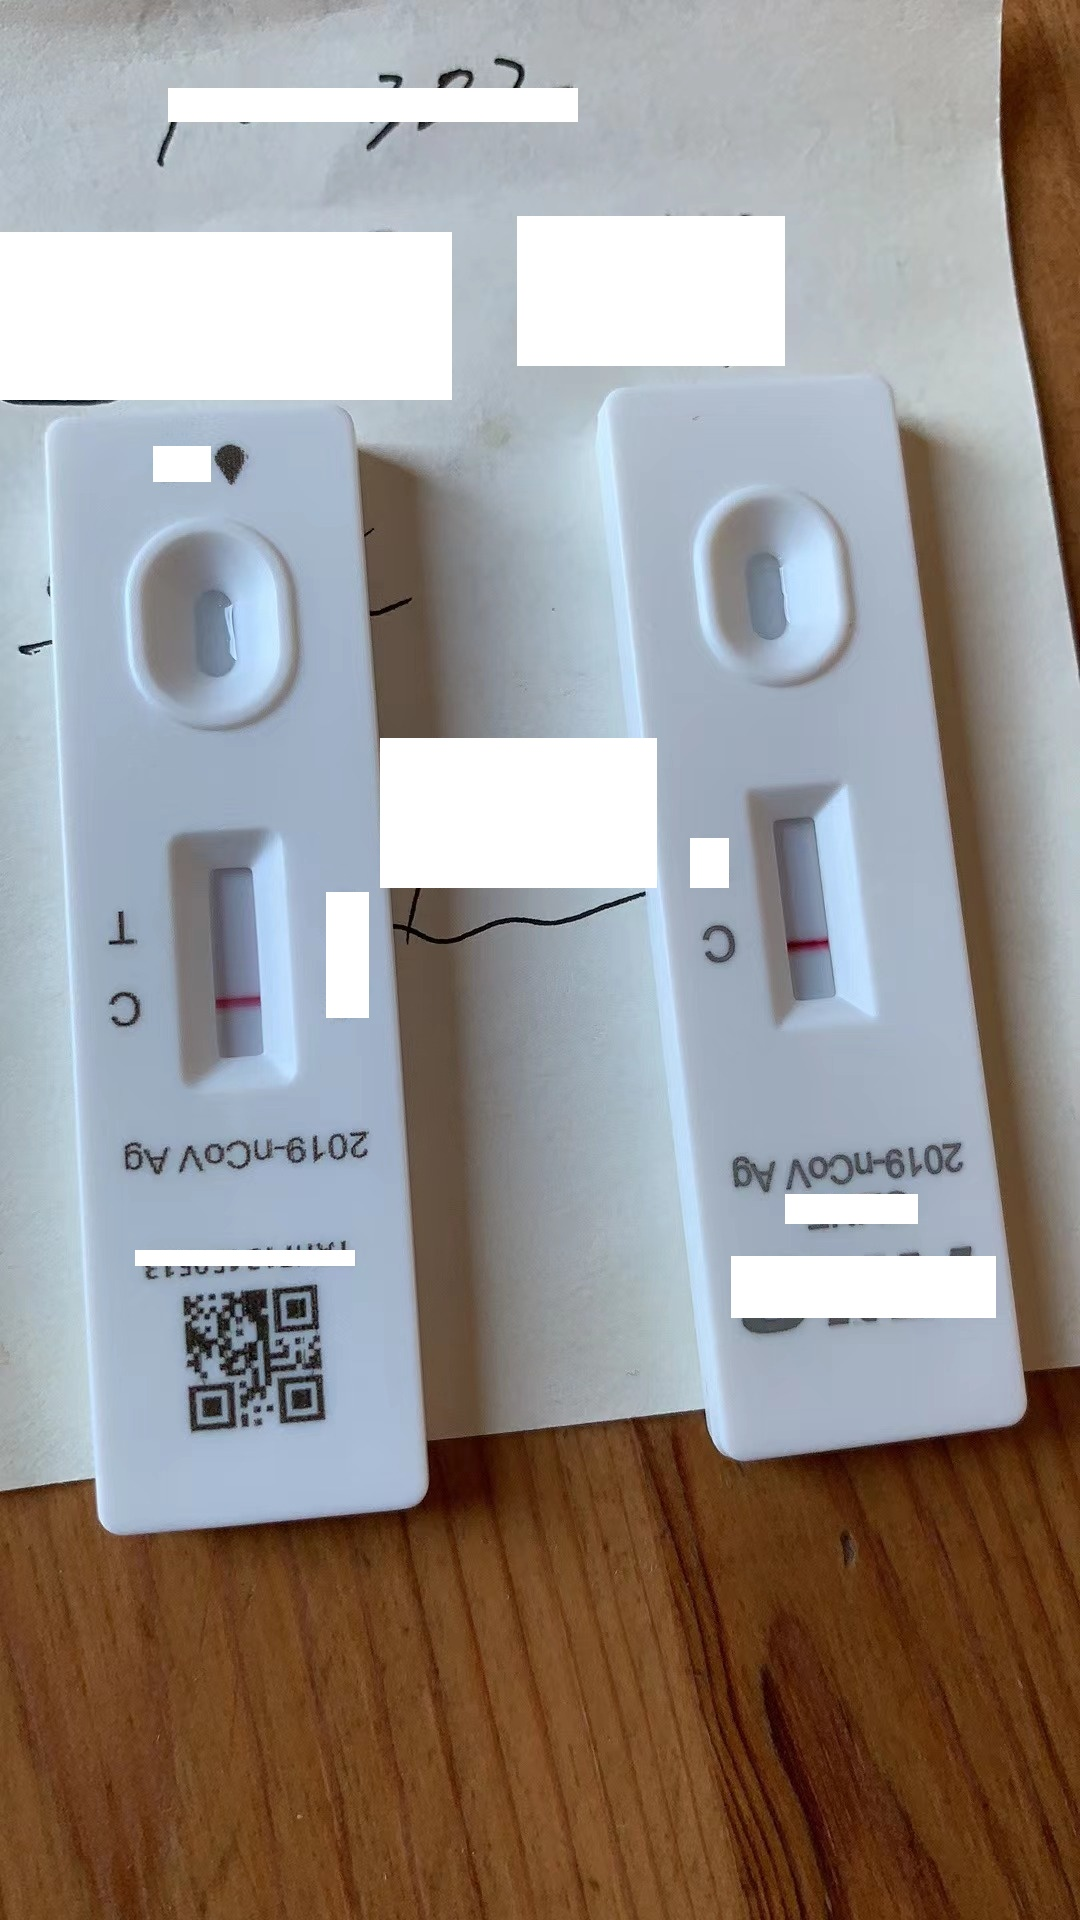negative: (167, 831, 285, 1091), (750, 782, 857, 1027)
